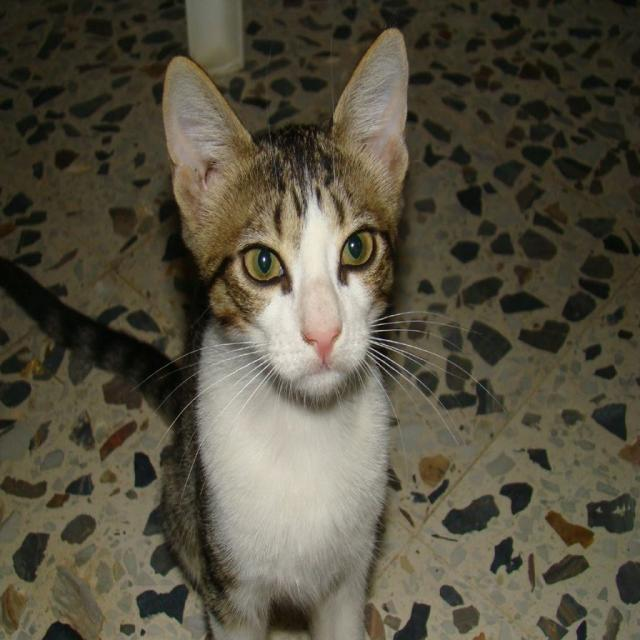Cat: (130, 9, 507, 639)
